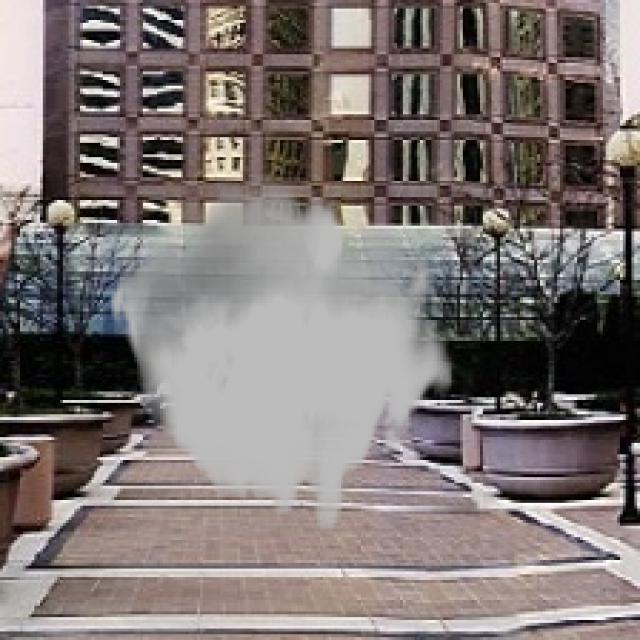Smoke: (108, 177, 454, 529)
